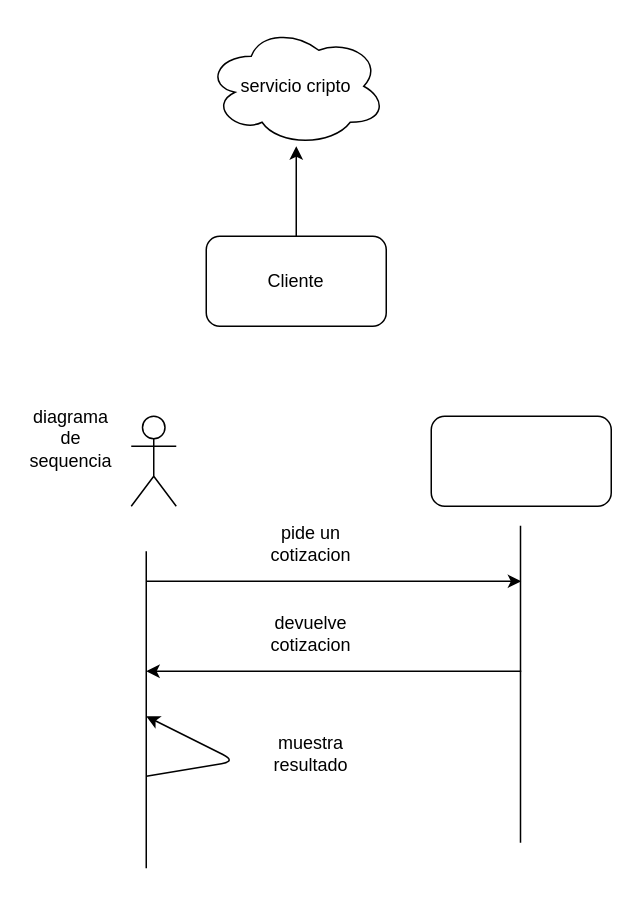
This 638x897 diagram has some shape labels left out. Each missing label, with the centre of its shape:
Actor: the point at 153,460
servicio cripto ya: the point at 520,460
